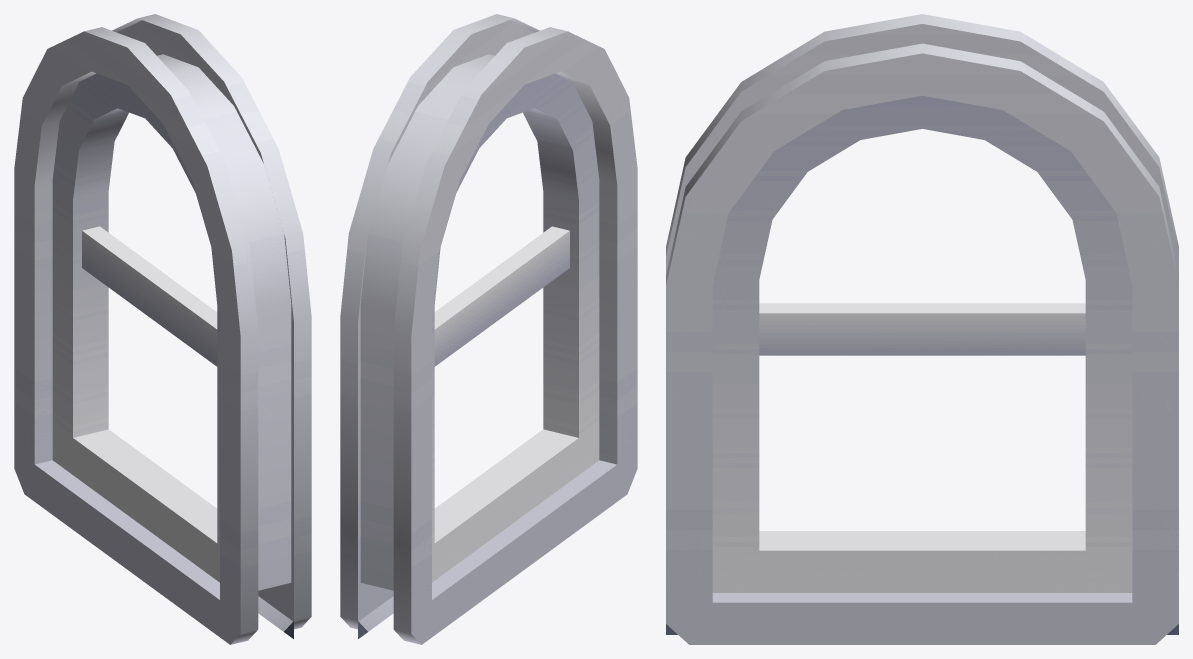
The model's file is window_05.glb.
3 views of the same model, side by side, from view 1: azimuth 30°, elevation 25°; view 2: azimuth 150°, elevation 25°; view 3: azimuth 270°, elevation 25° (orthographic). The views are drawn at different scales.
Visible parts, largest first — view 1: wall-window-round-detailed; view 2: wall-window-round-detailed; view 3: wall-window-round-detailed.
Part boxes in pixels (bbox=[...]): wall-window-round-detailed: bbox=[14, 14, 311, 644]; wall-window-round-detailed: bbox=[340, 14, 637, 644]; wall-window-round-detailed: bbox=[666, 14, 1178, 644].
Bounding box in the file's own units: 0.2 × 1.4 × 1.1.
1 material, 1 textured.
